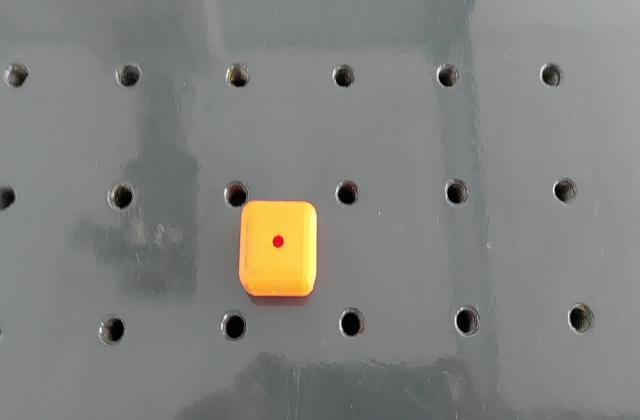cube: (238, 197, 318, 302)
